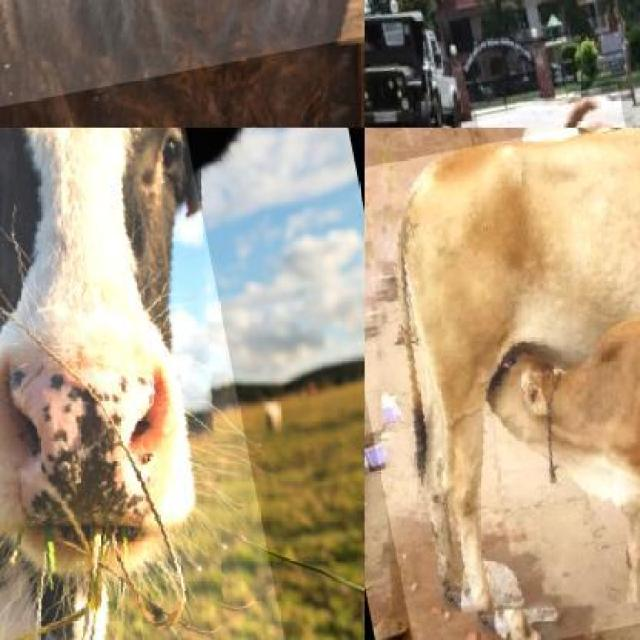buffalo: (0, 0, 365, 111)
cow: (0, 127, 287, 640), (364, 127, 640, 640), (481, 241, 640, 640)
dog: (475, 83, 640, 128)
